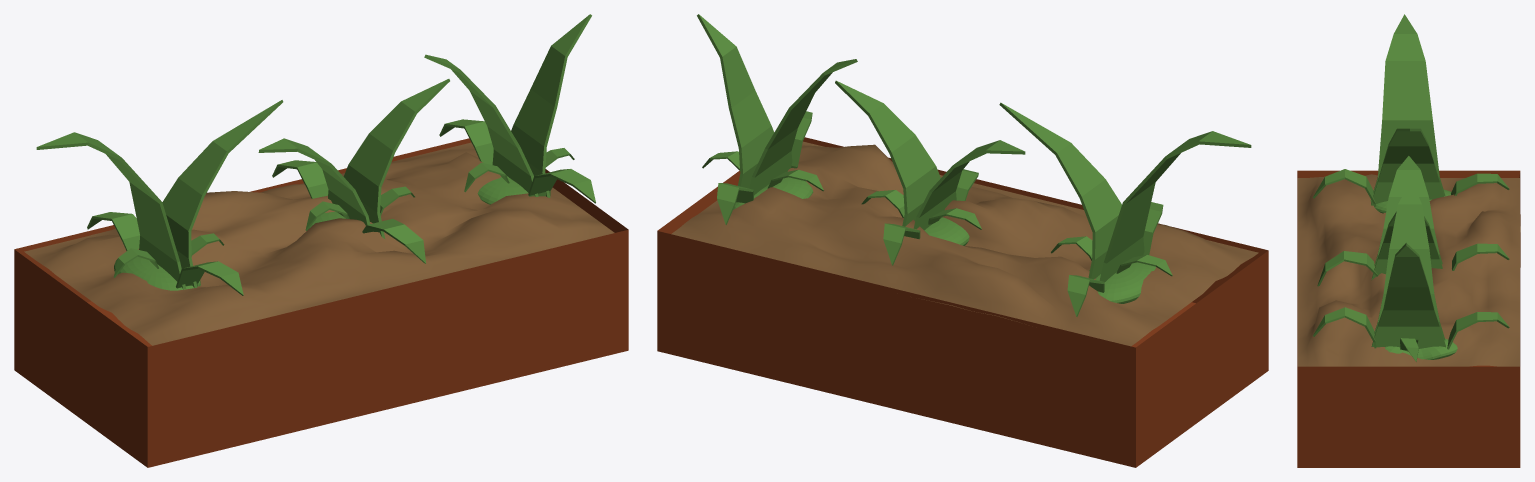
File: Macetero_1.fbx
The picture shows the model from 3 angles, left to right: view 1: azimuth 30°, elevation 25°; view 2: azimuth 150°, elevation 25°; view 3: azimuth 270°, elevation 25°; orthographic projection. The views are drawn at different scales.
Visible parts, largest first — view 1: Plane.002; view 2: Plane.002; view 3: Plane.002.
Part boxes in pixels (box(x1,y1,x2,y2)): Plane.002: box(14, 14, 628, 467); Plane.002: box(657, 14, 1268, 467); Plane.002: box(1297, 14, 1520, 467).
Size of the model in its own units: 963 by 472 by 401.
